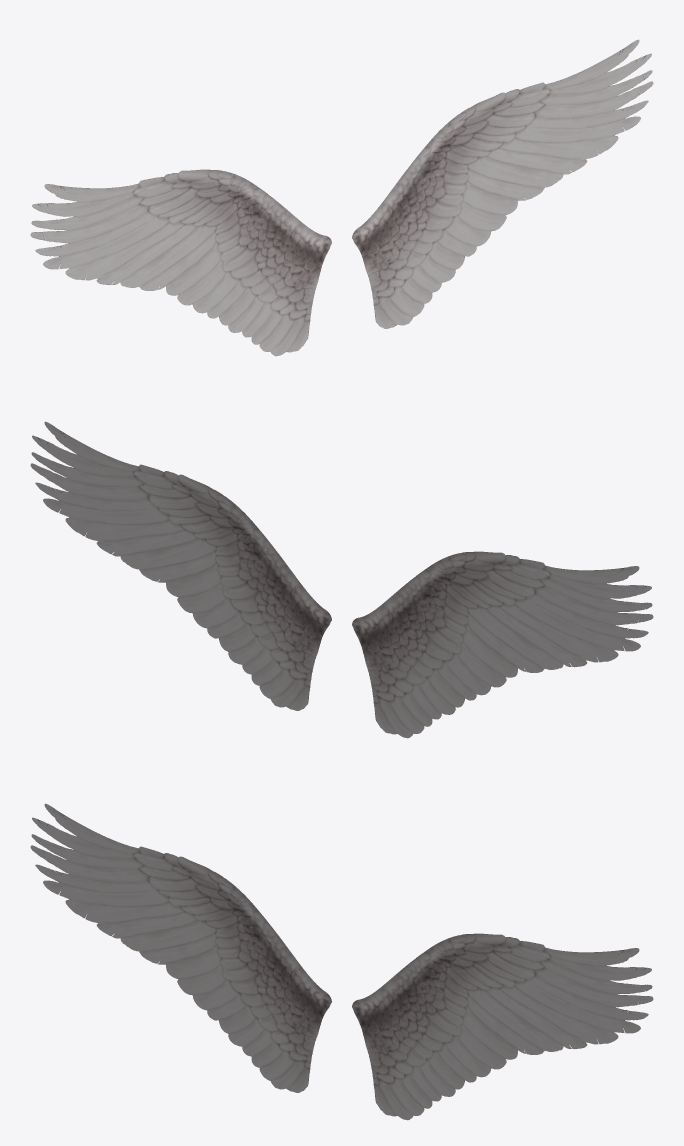
The model's file is Angel Wings T3.obj.
The picture shows the model from 3 angles, top to bottom: view 1: azimuth 30°, elevation 25°; view 2: azimuth 150°, elevation 25°; view 3: azimuth 330°, elevation 25°; orthographic projection.
Visible parts, largest first — view 1: Angel_Wings_T3; view 2: Angel_Wings_T3; view 3: Angel_Wings_T3.
Part boxes in pixels (left/top/right/bottom): Angel_Wings_T3: left=30, top=39, right=653, bottom=356; Angel_Wings_T3: left=30, top=421, right=653, bottom=738; Angel_Wings_T3: left=30, top=803, right=653, bottom=1120.
Size of the model in its own units: 321 by 123 by 0.
1 material, 1 textured.
